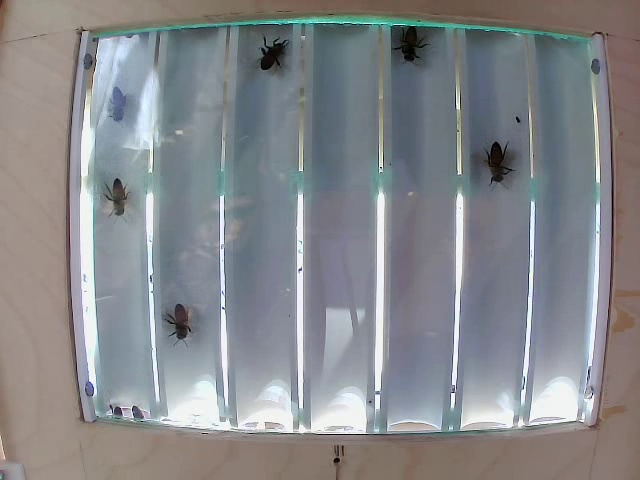bee: (481, 130, 518, 193), (100, 178, 136, 231), (156, 290, 188, 338), (394, 30, 427, 70), (251, 44, 289, 77)
